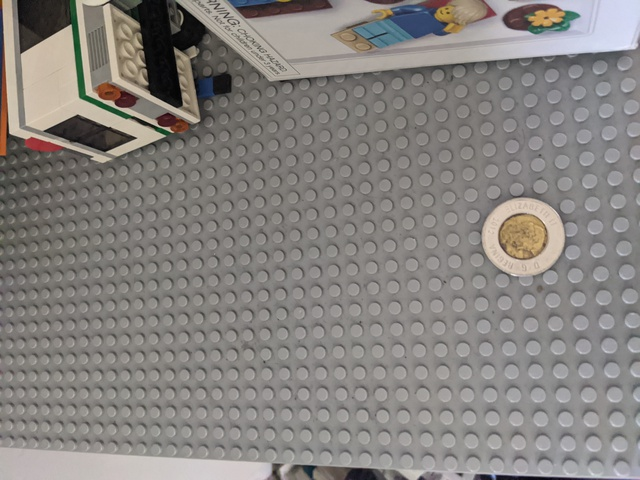twonie: (477, 188, 572, 275)
